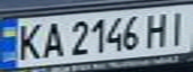1: (87, 15, 109, 54)
2: (66, 17, 90, 57)
4: (106, 14, 127, 53)
6: (121, 12, 148, 52)
A: (39, 19, 66, 60)
H: (142, 10, 175, 48)
I: (163, 7, 193, 46)
K: (12, 20, 45, 62)
